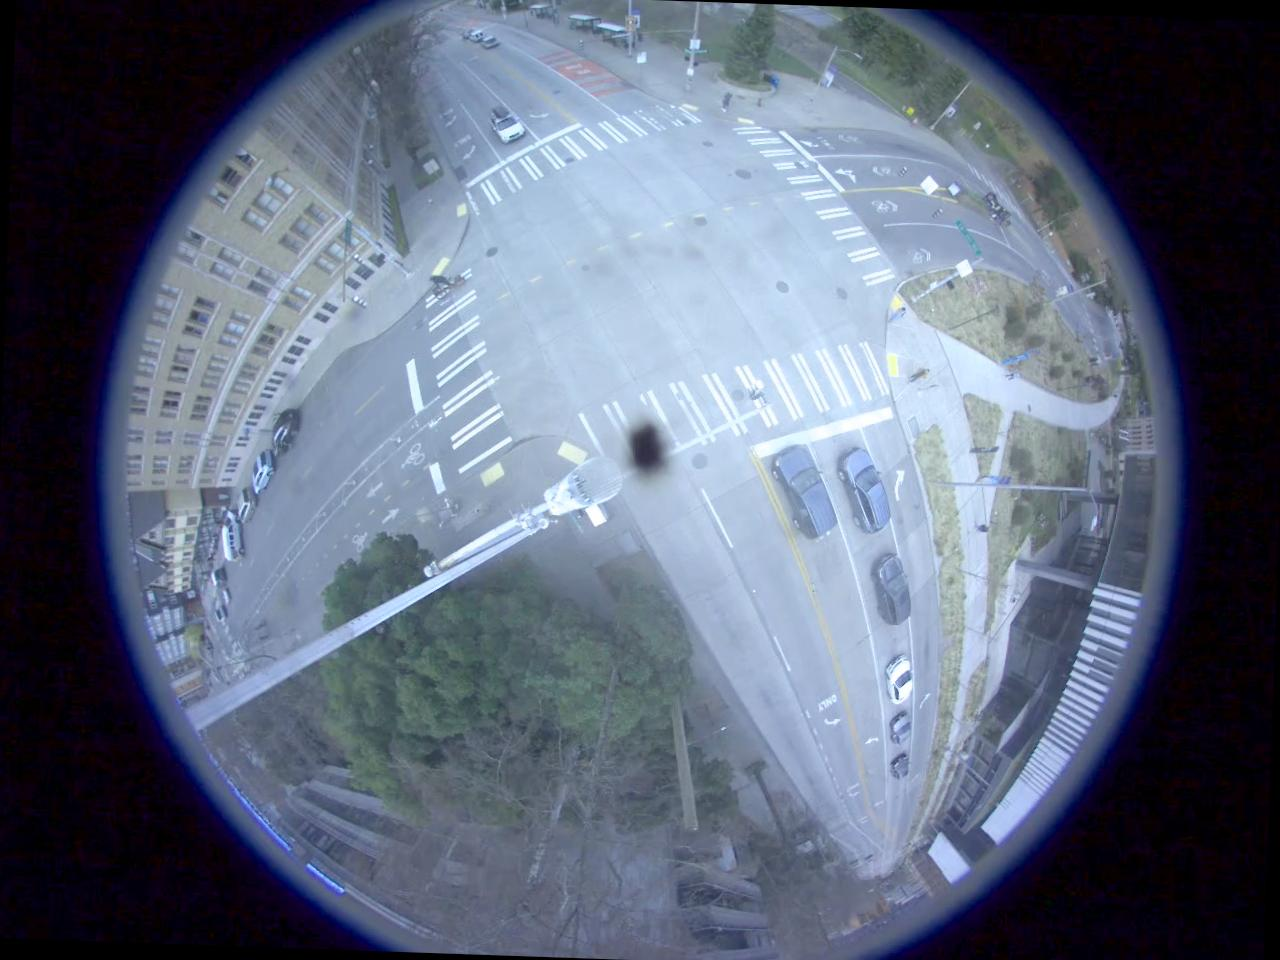bicycle: (424, 271, 468, 296)
car: (774, 436, 840, 539), (834, 446, 894, 537), (869, 552, 916, 628), (486, 103, 530, 144), (272, 406, 304, 458), (881, 655, 912, 704), (218, 508, 246, 560), (250, 450, 278, 491), (238, 480, 256, 528), (889, 752, 913, 785), (889, 710, 913, 742)
person: (906, 364, 934, 388), (887, 305, 910, 327), (973, 516, 995, 536), (720, 88, 734, 119), (1002, 369, 1028, 382)
